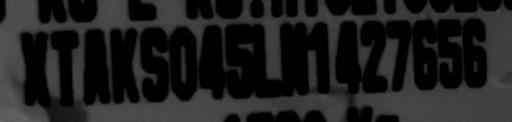letter: (18, 31, 54, 107), (48, 27, 82, 107), (222, 21, 254, 99), (139, 26, 171, 102), (108, 27, 140, 103), (81, 27, 111, 107), (198, 23, 228, 101), (359, 18, 389, 94), (281, 21, 311, 95), (252, 23, 282, 97), (168, 25, 198, 99), (436, 16, 464, 92), (460, 16, 488, 90), (306, 19, 334, 93), (334, 19, 362, 93), (384, 20, 412, 91), (412, 17, 438, 91)
